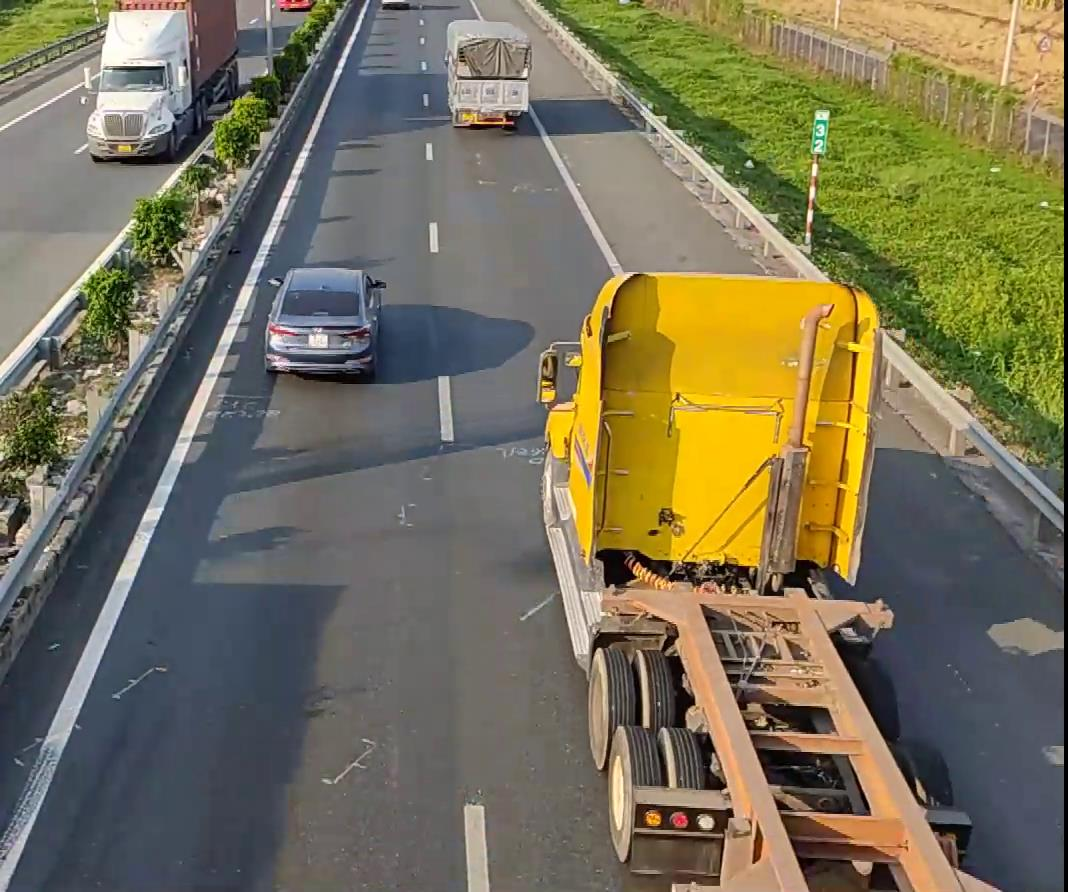car: (262, 264, 386, 378)
container: (537, 265, 988, 891), (83, 2, 244, 173)
truck: (444, 18, 531, 128)
